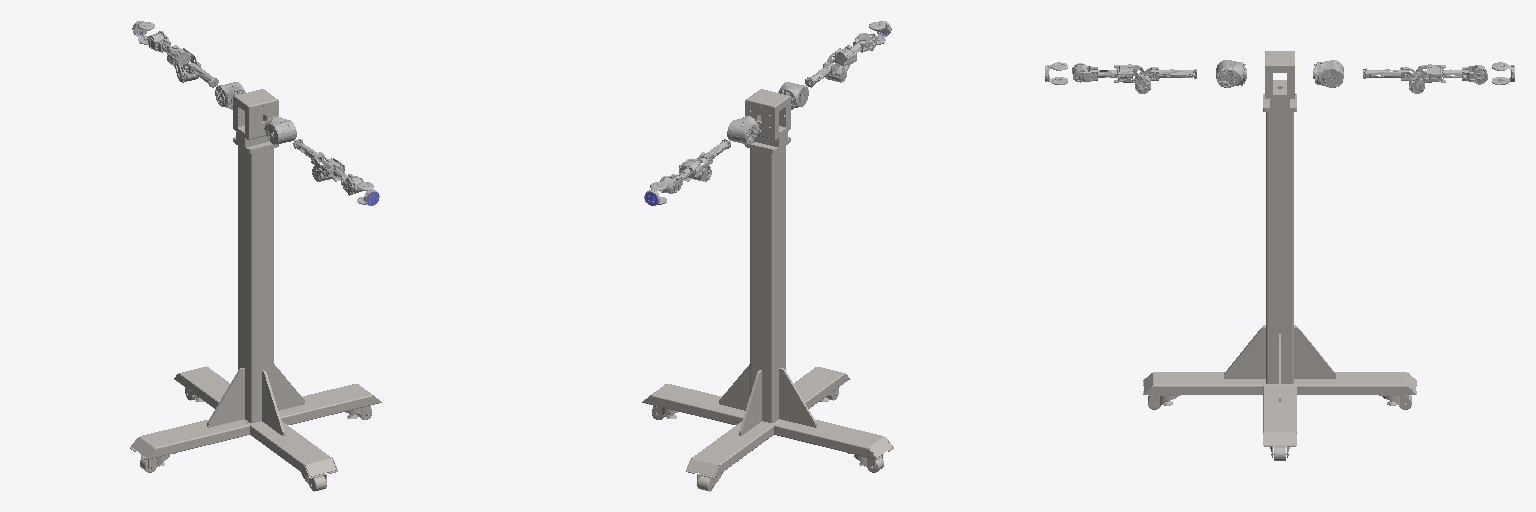
The robot description file, URDF, robot "dual_litearm_column":
<?xml version="1.0" ?>
<!-- =================================================================================== -->
<!-- |    This document was autogenerated by xacro from dual_litearm_column.xacro      | -->
<!-- |    EDITING THIS FILE BY HAND IS NOT RECOMMENDED                                 | -->
<!-- =================================================================================== -->
<robot name="dual_litearm_column">
  <!-- Column base from side_mount_column_description -->
  <link name="column_base_link">
    <inertial>
      <origin rpy="0 0 0" xyz="-1.04205818497635E-05 1.57131376342687E-09 -0.964687454497704"/>
      <mass value="29.2470496627084"/>
      <inertia ixx="1.41919673183219" ixy="8.93492624925241E-09" ixz="0.000230277615794084" iyy="1.04420337562241" iyz="-1.54077510060802E-09" izz="0.594546726532483"/>
    </inertial>
    <visual>
      <origin rpy="0 0 0" xyz="0 0 0"/>
      <geometry>
        <mesh filename="package://dual_litearm_column_description/meshes/column_base_link.STL"/>
      </geometry>
      <material name="column_material">
        <color rgba="0.776 0.757 0.737 1"/>
      </material>
    </visual>
    <collision>
      <origin rpy="0 0 0" xyz="0 0 0"/>
      <geometry>
        <mesh filename="package://dual_litearm_column_description/meshes/column_base_link.STL"/>
      </geometry>
    </collision>
  </link>
  <!-- Base link -->
  <link name="left_base_link">
    <inertial>
      <origin rpy="0 0 0" xyz="2.8175247251172E-05 -6.21980479290615E-07 0.035522409467453"/>
      <mass value="0.364380717062648"/>
      <inertia ixx="0.000273641151212691" ixy="1.67098713947684E-08" ixz="-1.095659949842E-08" iyy="0.000251821003104227" iyz="-3.36863189944049E-09" izz="0.000377759325620069"/>
    </inertial>
    <visual>
      <origin rpy="0 0 0" xyz="0 0 0"/>
      <geometry>
        <mesh filename="package://dual_litearm_column_description/meshes/arm_base_link.STL"/>
      </geometry>
      <material name="">
        <color rgba="0.752941176470588 0.752941176470588 0.752941176470588 1"/>
      </material>
    </visual>
    <collision>
      <origin rpy="0 0 0" xyz="0 0 0"/>
      <geometry>
        <mesh filename="package://dual_litearm_column_description/meshes/arm_base_link.STL"/>
      </geometry>
    </collision>
  </link>
  <!-- Joint from parent to base_link -->
  <joint name="left_mount_joint" type="fixed">
    <origin rpy="-1.5708 0 0" xyz="0 0.055 0"/>
    <parent link="column_base_link"/>
    <child link="left_base_link"/>
  </joint>
  <!-- Link1 -->
  <link name="left_Link1">
    <inertial>
      <origin rpy="0 0 0" xyz="-0.00019370279439063 -0.000144114740922077 0.0415560180015236"/>
      <mass value="0.636061100335262"/>
      <inertia ixx="0.000554935902050265" ixy="-4.51487655008648E-08" ixz="-1.0199728042019E-06" iyy="0.000356856391047183" iyz="-1.9576739855125E-06" izz="0.000409413887893391"/>
    </inertial>
    <visual>
      <origin rpy="0 0 0" xyz="0 0 0"/>
      <geometry>
        <mesh filename="package://dual_litearm_column_description/meshes/Link1.STL"/>
      </geometry>
      <material name="">
        <color rgba="0.752941176470588 0.752941176470588 0.752941176470588 1"/>
      </material>
    </visual>
    <collision>
      <origin rpy="0 0 0" xyz="0 0 0"/>
      <geometry>
        <mesh filename="package://dual_litearm_column_description/meshes/Link1.STL"/>
      </geometry>
    </collision>
  </link>
  <joint name="left_Joint1" type="revolute">
    <origin rpy="0 0 0" xyz="0 0 0.06975"/>
    <parent link="left_base_link"/>
    <child link="left_Link1"/>
    <axis xyz="0 0 1"/>
    <limit effort="97" lower="-2.827" upper="2.827" velocity="1"/>
  </joint>
  <!-- Link2 -->
  <link name="left_Link2">
    <inertial>
      <origin rpy="0 0 0" xyz="0.000109593690777762 0.0650406262633859 0.00200721976927298"/>
      <mass value="0.296281105636482"/>
      <inertia ixx="0.000270936717142598" ixy="-2.30306782741309E-08" ixz="-2.70975700808904E-07" iyy="0.000100407058034292" iyz="-6.69931874727689E-08" izz="0.00028685230942363"/>
    </inertial>
    <visual>
      <origin rpy="0 0 0" xyz="0 0 0"/>
      <geometry>
        <mesh filename="package://dual_litearm_column_description/meshes/Link2.STL"/>
      </geometry>
      <material name="">
        <color rgba="0.752941176470588 0.752941176470588 0.752941176470588 1"/>
      </material>
    </visual>
    <collision>
      <origin rpy="0 0 0" xyz="0 0 0"/>
      <geometry>
        <mesh filename="package://dual_litearm_column_description/meshes/Link2.STL"/>
      </geometry>
    </collision>
  </link>
  <joint name="left_Joint2" type="revolute">
    <origin rpy="1.5708 0 -1.5708" xyz="0 0 0.0635"/>
    <parent link="left_Link1"/>
    <child link="left_Link2"/>
    <axis xyz="0 0 1"/>
    <limit effort="97" lower="-1.745" upper="1.745" velocity="1"/>
  </joint>
  <!-- Link3 -->
  <link name="left_Link3">
    <inertial>
      <origin rpy="0 0 0" xyz="0.0151163110470192 1.28732078291013E-05 0.126779005395266"/>
      <mass value="0.376902688786702"/>
      <inertia ixx="0.000376663293951144" ixy="-1.4376802512009E-06" ixz="-2.8608849769158E-05" iyy="0.000430672465627267" iyz="-1.30040412215712E-06" izz="0.000111040747664692"/>
    </inertial>
    <visual>
      <origin rpy="0 0 0" xyz="0 0 0"/>
      <geometry>
        <mesh filename="package://dual_litearm_column_description/meshes/Link3.STL"/>
      </geometry>
      <material name="">
        <color rgba="0.752941176470588 0.752941176470588 0.752941176470588 1"/>
      </material>
    </visual>
    <collision>
      <origin rpy="0 0 0" xyz="0 0 0"/>
      <geometry>
        <mesh filename="package://dual_litearm_column_description/meshes/Link3.STL"/>
      </geometry>
    </collision>
  </link>
  <joint name="left_Joint3" type="revolute">
    <origin rpy="1.5708 0 3.1416" xyz="0 0.1135 0"/>
    <parent link="left_Link2"/>
    <child link="left_Link3"/>
    <axis xyz="0 0 1"/>
    <limit effort="27" lower="-2.827" upper="2.827" velocity="1"/>
  </joint>
  <!-- Link4 -->
  <link name="left_Link4">
    <inertial>
      <origin rpy="0 0 0" xyz="-0.0309491778245941 0.0463711873882648 0.0015781418802144"/>
      <mass value="0.285335817911565"/>
      <inertia ixx="0.000163897556025315" ixy="5.04686660054849E-05" ixz="5.37856557248851E-07" iyy="0.000135611687203248" iyz="-4.94793867316259E-07" izz="0.000225975039727136"/>
    </inertial>
    <visual>
      <origin rpy="0 0 0" xyz="0 0 0"/>
      <geometry>
        <mesh filename="package://dual_litearm_column_description/meshes/Link4.STL"/>
      </geometry>
      <material name="">
        <color rgba="0.752941176470588 0.752941176470588 0.752941176470588 1"/>
      </material>
    </visual>
    <collision>
      <origin rpy="0 0 0" xyz="0 0 0"/>
      <geometry>
        <mesh filename="package://dual_litearm_column_description/meshes/Link4.STL"/>
      </geometry>
    </collision>
  </link>
  <joint name="left_Joint4" type="revolute">
    <origin rpy="1.5708 0 0" xyz="0.038 0 0.186"/>
    <parent link="left_Link3"/>
    <child link="left_Link4"/>
    <axis xyz="0 0 1"/>
    <limit effort="27" lower="-3.089" upper="0.035" velocity="1"/>
  </joint>
  <!-- Link5 -->
  <link name="left_Link5">
    <inertial>
      <origin rpy="0 0 0" xyz="-1.76702794687419E-05 0.000426510005050206 0.0951098350080332"/>
      <mass value="0.352654558225702"/>
      <inertia ixx="0.00017392986087562" ixy="-3.22310063327901E-08" ixz="5.61419665918086E-08" iyy="0.000203095536622157" iyz="3.31113262927855E-07" izz="7.25590513906507E-05"/>
    </inertial>
    <visual>
      <origin rpy="0 0 0" xyz="0 0 0"/>
      <geometry>
        <mesh filename="package://dual_litearm_column_description/meshes/Link5.STL"/>
      </geometry>
      <material name="">
        <color rgba="0.752941176470588 0.752941176470588 0.752941176470588 1"/>
      </material>
    </visual>
    <collision>
      <origin rpy="0 0 0" xyz="0 0 0"/>
      <geometry>
        <mesh filename="package://dual_litearm_column_description/meshes/Link5.STL"/>
      </geometry>
    </collision>
  </link>
  <joint name="left_Joint5" type="revolute">
    <origin rpy="1.5708 0 3.1416" xyz="-0.038 0.08545 0"/>
    <parent link="left_Link4"/>
    <child link="left_Link5"/>
    <axis xyz="0 0 1"/>
    <limit effort="12.5" lower="-2.827" upper="2.827" velocity="1"/>
  </joint>
  <!-- Link6 -->
  <link name="left_Link6">
    <inertial>
      <origin rpy="0 0 0" xyz="-0.000202518687183434 0.0525238727976804 0.00178388122861069"/>
      <mass value="0.298759845757099"/>
      <inertia ixx="0.000327555222283101" ixy="-1.39710589093183E-05" ixz="1.17541296357007E-06" iyy="0.000173286577178843" iyz="1.33181143129222E-05" izz="0.00031378344682003"/>
    </inertial>
    <visual>
      <origin rpy="0 0 0" xyz="0 0 0"/>
      <geometry>
        <mesh filename="package://dual_litearm_column_description/meshes/Link6.STL"/>
      </geometry>
      <material name="">
        <color rgba="0.752941176470588 0.752941176470588 0.752941176470588 1"/>
      </material>
    </visual>
    <collision>
      <origin rpy="0 0 0" xyz="0 0 0"/>
      <geometry>
        <mesh filename="package://dual_litearm_column_description/meshes/Link6.STL"/>
      </geometry>
    </collision>
  </link>
  <joint name="left_Joint6" type="revolute">
    <origin rpy="1.5708 0 0" xyz="0 0 0.13705"/>
    <parent link="left_Link5"/>
    <child link="left_Link6"/>
    <axis xyz="0 0 -1"/>
    <limit effort="12.5" lower="-1.571" upper="1.571" velocity="1"/>
  </joint>
  <!-- Link7 -->
  <link name="left_Link7">
    <inertial>
      <origin rpy="0 0 0" xyz="0.0134504979692868 -9.0714971524702E-05 0.00199419237138226"/>
      <mass value="0.152315157261345"/>
      <inertia ixx="4.49052523652279E-05" ixy="7.06299437042223E-08" ixz="2.88694676251147E-07" iyy="4.43694914268928E-05" iyz="-3.12258040603513E-07" izz="6.77348115130221E-05"/>
    </inertial>
    <visual>
      <origin rpy="0 0 0" xyz="0 0 0"/>
      <geometry>
        <mesh filename="package://dual_litearm_column_description/meshes/Link7.STL"/>
      </geometry>
      <material name="">
        <color rgba="0.752941176470588 0.752941176470588 0.752941176470588 1"/>
      </material>
    </visual>
    <collision>
      <origin rpy="0 0 0" xyz="0 0 0"/>
      <geometry>
        <mesh filename="package://dual_litearm_column_description/meshes/Link7.STL"/>
      </geometry>
    </collision>
  </link>
  <joint name="left_Joint7" type="revolute">
    <origin rpy="1.5708 0 1.5708" xyz="0 0.074 0"/>
    <parent link="left_Link6"/>
    <child link="left_Link7"/>
    <axis xyz="0 0 1"/>
    <limit effort="12.5" lower="-1.571" upper="1.571" velocity="1"/>
  </joint>
  <!-- End effector link -->
  <link name="left_ee_frame_link">
    <inertial>
      <origin rpy="0 0 0" xyz="2.70261255596209E-09 -4.63278928536582E-10 -0.00350345068724889"/>
      <mass value="0.0284157347604788"/>
      <inertia ixx="6.67966983467751E-06" ixy="1.67474376584743E-13" ixz="2.71971370018246E-13" iyy="6.67966982267516E-06" iyz="-3.3869129999222E-13" izz="1.29103138360772E-05"/>
    </inertial>
    <visual>
      <origin rpy="0 0 0" xyz="0 0 0"/>
      <geometry>
        <mesh filename="package://dual_litearm_column_description/meshes/ee_frame_link.STL"/>
      </geometry>
      <material name="">
        <color rgba="0.501960784313725 0.501960784313725 1 1"/>
      </material>
    </visual>
    <collision>
      <origin rpy="0 0 0" xyz="0 0 0"/>
      <geometry>
        <mesh filename="package://dual_litearm_column_description/meshes/ee_frame_link.STL"/>
      </geometry>
    </collision>
  </link>
  <joint name="left_ee_joint" type="fixed">
    <origin rpy="0 1.5708 0" xyz="0.05375 0 0"/>
    <parent link="left_Link7"/>
    <child link="left_ee_frame_link"/>
  </joint>
  <!-- Base link -->
  <link name="right_base_link">
    <inertial>
      <origin rpy="0 0 0" xyz="2.8175247251172E-05 -6.21980479290615E-07 0.035522409467453"/>
      <mass value="0.364380717062648"/>
      <inertia ixx="0.000273641151212691" ixy="1.67098713947684E-08" ixz="-1.095659949842E-08" iyy="0.000251821003104227" iyz="-3.36863189944049E-09" izz="0.000377759325620069"/>
    </inertial>
    <visual>
      <origin rpy="0 0 0" xyz="0 0 0"/>
      <geometry>
        <mesh filename="package://dual_litearm_column_description/meshes/arm_base_link.STL"/>
      </geometry>
      <material name="">
        <color rgba="0.752941176470588 0.752941176470588 0.752941176470588 1"/>
      </material>
    </visual>
    <collision>
      <origin rpy="0 0 0" xyz="0 0 0"/>
      <geometry>
        <mesh filename="package://dual_litearm_column_description/meshes/arm_base_link.STL"/>
      </geometry>
    </collision>
  </link>
  <!-- Joint from parent to base_link -->
  <joint name="right_mount_joint" type="fixed">
    <origin rpy="-1.5708 0 3.1416" xyz="0 -0.055 0"/>
    <parent link="column_base_link"/>
    <child link="right_base_link"/>
  </joint>
  <!-- Link1 -->
  <link name="right_Link1">
    <inertial>
      <origin rpy="0 0 0" xyz="-0.00019370279439063 -0.000144114740922077 0.0415560180015236"/>
      <mass value="0.636061100335262"/>
      <inertia ixx="0.000554935902050265" ixy="-4.51487655008648E-08" ixz="-1.0199728042019E-06" iyy="0.000356856391047183" iyz="-1.9576739855125E-06" izz="0.000409413887893391"/>
    </inertial>
    <visual>
      <origin rpy="0 0 0" xyz="0 0 0"/>
      <geometry>
        <mesh filename="package://dual_litearm_column_description/meshes/Link1.STL"/>
      </geometry>
      <material name="">
        <color rgba="0.752941176470588 0.752941176470588 0.752941176470588 1"/>
      </material>
    </visual>
    <collision>
      <origin rpy="0 0 0" xyz="0 0 0"/>
      <geometry>
        <mesh filename="package://dual_litearm_column_description/meshes/Link1.STL"/>
      </geometry>
    </collision>
  </link>
  <joint name="right_Joint1" type="revolute">
    <origin rpy="0 0 0" xyz="0 0 0.06975"/>
    <parent link="right_base_link"/>
    <child link="right_Link1"/>
    <axis xyz="0 0 1"/>
    <limit effort="97" lower="-2.827" upper="2.827" velocity="1"/>
  </joint>
  <!-- Link2 -->
  <link name="right_Link2">
    <inertial>
      <origin rpy="0 0 0" xyz="0.000109593690777762 0.0650406262633859 0.00200721976927298"/>
      <mass value="0.296281105636482"/>
      <inertia ixx="0.000270936717142598" ixy="-2.30306782741309E-08" ixz="-2.70975700808904E-07" iyy="0.000100407058034292" iyz="-6.69931874727689E-08" izz="0.00028685230942363"/>
    </inertial>
    <visual>
      <origin rpy="0 0 0" xyz="0 0 0"/>
      <geometry>
        <mesh filename="package://dual_litearm_column_description/meshes/Link2.STL"/>
      </geometry>
      <material name="">
        <color rgba="0.752941176470588 0.752941176470588 0.752941176470588 1"/>
      </material>
    </visual>
    <collision>
      <origin rpy="0 0 0" xyz="0 0 0"/>
      <geometry>
        <mesh filename="package://dual_litearm_column_description/meshes/Link2.STL"/>
      </geometry>
    </collision>
  </link>
  <joint name="right_Joint2" type="revolute">
    <origin rpy="1.5708 0 -1.5708" xyz="0 0 0.0635"/>
    <parent link="right_Link1"/>
    <child link="right_Link2"/>
    <axis xyz="0 0 1"/>
    <limit effort="97" lower="-1.745" upper="1.745" velocity="1"/>
  </joint>
  <!-- Link3 -->
  <link name="right_Link3">
    <inertial>
      <origin rpy="0 0 0" xyz="0.0151163110470192 1.28732078291013E-05 0.126779005395266"/>
      <mass value="0.376902688786702"/>
      <inertia ixx="0.000376663293951144" ixy="-1.4376802512009E-06" ixz="-2.8608849769158E-05" iyy="0.000430672465627267" iyz="-1.30040412215712E-06" izz="0.000111040747664692"/>
    </inertial>
    <visual>
      <origin rpy="0 0 0" xyz="0 0 0"/>
      <geometry>
        <mesh filename="package://dual_litearm_column_description/meshes/Link3.STL"/>
      </geometry>
      <material name="">
        <color rgba="0.752941176470588 0.752941176470588 0.752941176470588 1"/>
      </material>
    </visual>
    <collision>
      <origin rpy="0 0 0" xyz="0 0 0"/>
      <geometry>
        <mesh filename="package://dual_litearm_column_description/meshes/Link3.STL"/>
      </geometry>
    </collision>
  </link>
  <joint name="right_Joint3" type="revolute">
    <origin rpy="1.5708 0 3.1416" xyz="0 0.1135 0"/>
    <parent link="right_Link2"/>
    <child link="right_Link3"/>
    <axis xyz="0 0 1"/>
    <limit effort="27" lower="-2.827" upper="2.827" velocity="1"/>
  </joint>
  <!-- Link4 -->
  <link name="right_Link4">
    <inertial>
      <origin rpy="0 0 0" xyz="-0.0309491778245941 0.0463711873882648 0.0015781418802144"/>
      <mass value="0.285335817911565"/>
      <inertia ixx="0.000163897556025315" ixy="5.04686660054849E-05" ixz="5.37856557248851E-07" iyy="0.000135611687203248" iyz="-4.94793867316259E-07" izz="0.000225975039727136"/>
    </inertial>
    <visual>
      <origin rpy="0 0 0" xyz="0 0 0"/>
      <geometry>
        <mesh filename="package://dual_litearm_column_description/meshes/Link4.STL"/>
      </geometry>
      <material name="">
        <color rgba="0.752941176470588 0.752941176470588 0.752941176470588 1"/>
      </material>
    </visual>
    <collision>
      <origin rpy="0 0 0" xyz="0 0 0"/>
      <geometry>
        <mesh filename="package://dual_litearm_column_description/meshes/Link4.STL"/>
      </geometry>
    </collision>
  </link>
  <joint name="right_Joint4" type="revolute">
    <origin rpy="1.5708 0 0" xyz="0.038 0 0.186"/>
    <parent link="right_Link3"/>
    <child link="right_Link4"/>
    <axis xyz="0 0 1"/>
    <limit effort="27" lower="-3.089" upper="0.035" velocity="1"/>
  </joint>
  <!-- Link5 -->
  <link name="right_Link5">
    <inertial>
      <origin rpy="0 0 0" xyz="-1.76702794687419E-05 0.000426510005050206 0.0951098350080332"/>
      <mass value="0.352654558225702"/>
      <inertia ixx="0.00017392986087562" ixy="-3.22310063327901E-08" ixz="5.61419665918086E-08" iyy="0.000203095536622157" iyz="3.31113262927855E-07" izz="7.25590513906507E-05"/>
    </inertial>
    <visual>
      <origin rpy="0 0 0" xyz="0 0 0"/>
      <geometry>
        <mesh filename="package://dual_litearm_column_description/meshes/Link5.STL"/>
      </geometry>
      <material name="">
        <color rgba="0.752941176470588 0.752941176470588 0.752941176470588 1"/>
      </material>
    </visual>
    <collision>
      <origin rpy="0 0 0" xyz="0 0 0"/>
      <geometry>
        <mesh filename="package://dual_litearm_column_description/meshes/Link5.STL"/>
      </geometry>
    </collision>
  </link>
  <joint name="right_Joint5" type="revolute">
    <origin rpy="1.5708 0 3.1416" xyz="-0.038 0.08545 0"/>
    <parent link="right_Link4"/>
    <child link="right_Link5"/>
    <axis xyz="0 0 1"/>
    <limit effort="12.5" lower="-2.827" upper="2.827" velocity="1"/>
  </joint>
  <!-- Link6 -->
  <link name="right_Link6">
    <inertial>
      <origin rpy="0 0 0" xyz="-0.000202518687183434 0.0525238727976804 0.00178388122861069"/>
      <mass value="0.298759845757099"/>
      <inertia ixx="0.000327555222283101" ixy="-1.39710589093183E-05" ixz="1.17541296357007E-06" iyy="0.000173286577178843" iyz="1.33181143129222E-05" izz="0.00031378344682003"/>
    </inertial>
    <visual>
      <origin rpy="0 0 0" xyz="0 0 0"/>
      <geometry>
        <mesh filename="package://dual_litearm_column_description/meshes/Link6.STL"/>
      </geometry>
      <material name="">
        <color rgba="0.752941176470588 0.752941176470588 0.752941176470588 1"/>
      </material>
    </visual>
    <collision>
      <origin rpy="0 0 0" xyz="0 0 0"/>
      <geometry>
        <mesh filename="package://dual_litearm_column_description/meshes/Link6.STL"/>
      </geometry>
    </collision>
  </link>
  <joint name="right_Joint6" type="revolute">
    <origin rpy="1.5708 0 0" xyz="0 0 0.13705"/>
    <parent link="right_Link5"/>
    <child link="right_Link6"/>
    <axis xyz="0 0 -1"/>
    <limit effort="12.5" lower="-1.571" upper="1.571" velocity="1"/>
  </joint>
  <!-- Link7 -->
  <link name="right_Link7">
    <inertial>
      <origin rpy="0 0 0" xyz="0.0134504979692868 -9.0714971524702E-05 0.00199419237138226"/>
      <mass value="0.152315157261345"/>
      <inertia ixx="4.49052523652279E-05" ixy="7.06299437042223E-08" ixz="2.88694676251147E-07" iyy="4.43694914268928E-05" iyz="-3.12258040603513E-07" izz="6.77348115130221E-05"/>
    </inertial>
    <visual>
      <origin rpy="0 0 0" xyz="0 0 0"/>
      <geometry>
        <mesh filename="package://dual_litearm_column_description/meshes/Link7.STL"/>
      </geometry>
      <material name="">
        <color rgba="0.752941176470588 0.752941176470588 0.752941176470588 1"/>
      </material>
    </visual>
    <collision>
      <origin rpy="0 0 0" xyz="0 0 0"/>
      <geometry>
        <mesh filename="package://dual_litearm_column_description/meshes/Link7.STL"/>
      </geometry>
    </collision>
  </link>
  <joint name="right_Joint7" type="revolute">
    <origin rpy="1.5708 0 1.5708" xyz="0 0.074 0"/>
    <parent link="right_Link6"/>
    <child link="right_Link7"/>
    <axis xyz="0 0 1"/>
    <limit effort="12.5" lower="-1.571" upper="1.571" velocity="1"/>
  </joint>
  <!-- End effector link -->
  <link name="right_ee_frame_link">
    <inertial>
      <origin rpy="0 0 0" xyz="2.70261255596209E-09 -4.63278928536582E-10 -0.00350345068724889"/>
      <mass value="0.0284157347604788"/>
      <inertia ixx="6.67966983467751E-06" ixy="1.67474376584743E-13" ixz="2.71971370018246E-13" iyy="6.67966982267516E-06" iyz="-3.3869129999222E-13" izz="1.29103138360772E-05"/>
    </inertial>
    <visual>
      <origin rpy="0 0 0" xyz="0 0 0"/>
      <geometry>
        <mesh filename="package://dual_litearm_column_description/meshes/ee_frame_link.STL"/>
      </geometry>
      <material name="">
        <color rgba="0.501960784313725 0.501960784313725 1 1"/>
      </material>
    </visual>
    <collision>
      <origin rpy="0 0 0" xyz="0 0 0"/>
      <geometry>
        <mesh filename="package://dual_litearm_column_description/meshes/ee_frame_link.STL"/>
      </geometry>
    </collision>
  </link>
  <joint name="right_ee_joint" type="fixed">
    <origin rpy="0 1.5708 0" xyz="0.05375 0 0"/>
    <parent link="right_Link7"/>
    <child link="right_ee_frame_link"/>
  </joint>
</robot>

--- Render facts (derived) ---
Views: 3 orthographic renders of the robot side by side, from view 1: azimuth 30°, elevation 25°; view 2: azimuth 150°, elevation 25°; view 3: azimuth 270°, elevation 25°.
Model dual_litearm_column with 19 links and 18 joints (14 revolute, 4 fixed), rooted at column_base_link, posed all joints at 0.
Visible links, largest first — view 1: column_base_link, right_Link1; view 2: column_base_link, left_Link1; view 3: column_base_link, right_Link1, left_Link1, left_Link3, right_Link3, right_Link5, left_Link5, right_Link4, left_Link4.
Boxes of the visible links, left/top/right/bottom form: column_base_link: left=130, top=89, right=381, bottom=491; right_Link1: left=264, top=116, right=296, bottom=144; column_base_link: left=642, top=89, right=893, bottom=491; left_Link1: left=727, top=116, right=759, bottom=144; column_base_link: left=1143, top=51, right=1416, bottom=460; right_Link1: left=1216, top=60, right=1246, bottom=87; left_Link1: left=1313, top=60, right=1343, bottom=87; left_Link3: left=1363, top=67, right=1424, bottom=93; right_Link3: left=1135, top=67, right=1196, bottom=93; right_Link5: left=1072, top=63, right=1117, bottom=82; left_Link5: left=1442, top=65, right=1487, bottom=84; right_Link4: left=1114, top=64, right=1148, bottom=92; left_Link4: left=1411, top=64, right=1445, bottom=92.
Bounding box of the posed robot: 0.9765 × 1.68 × 1.37 m (x, y, z).
13 mesh visuals loaded from 10 distinct referenced files (7 binary STL); not drawn: 6 (reference not matched to a file when rendering).
